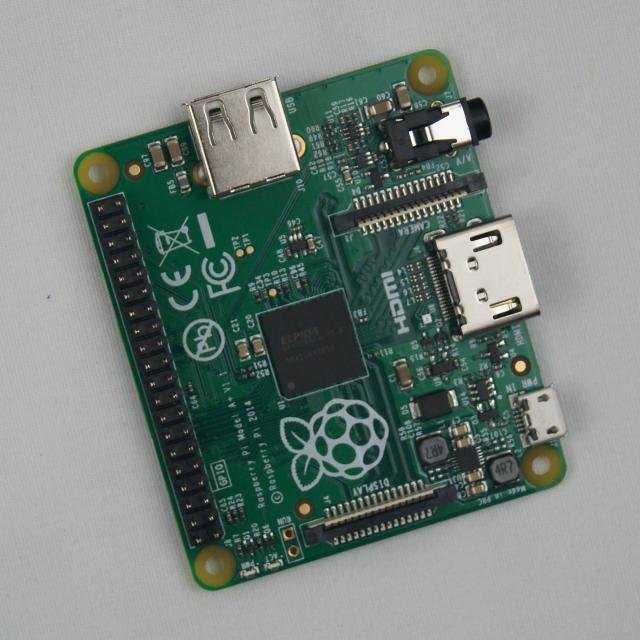Raspberry-Pi-1-A-: (75, 51, 567, 589)
